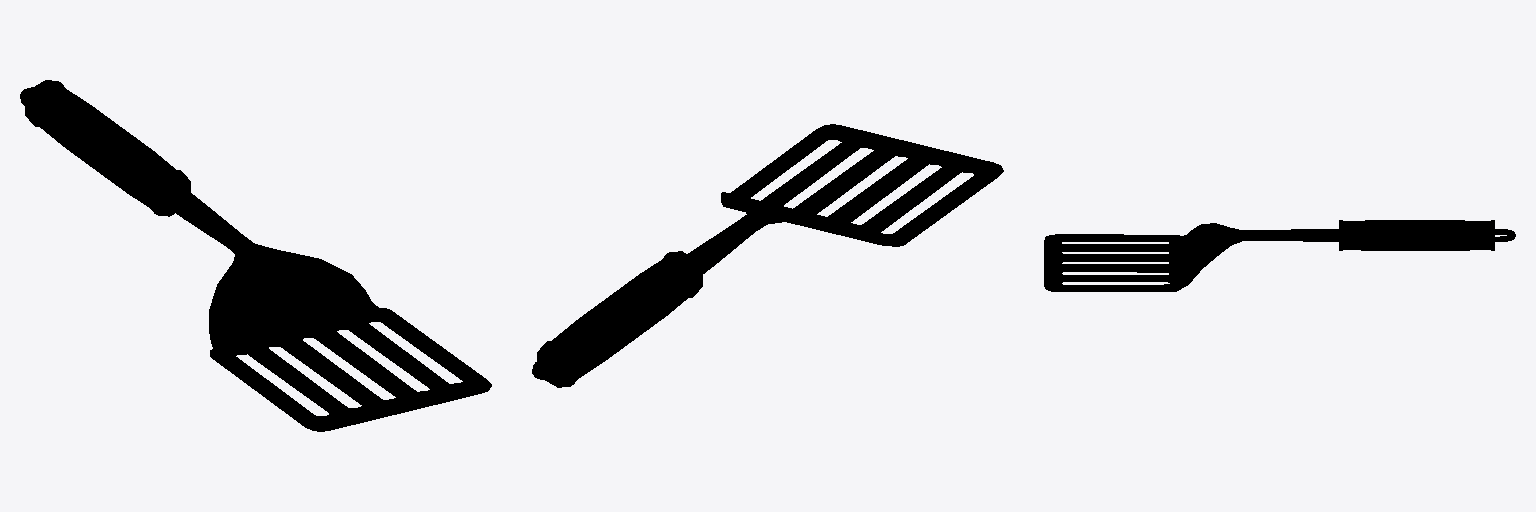
URDF robot description (spatula_dummy):
<?xml version="1.0" ?>
<robot name="spatula_dummy">
  <link name="baseLink">
    <visual>
      <origin rpy="0 0 0" xyz="0.0225 0.000 0.0047"/>
      <geometry>
        <mesh filename="../obj/spatula.obj" scale="0.01 0.01 0.01"/>
      </geometry>
       <material name="black">
        <color rgba="0 0 0 1"/>
      </material>
    </visual>
  </link>
</robot>

--- What the picture shows (computed from the rendered views, not written in the file) ---
The picture shows the robot from 3 angles, left to right: view 1: azimuth 30°, elevation 25°; view 2: azimuth 150°, elevation 25°; view 3: azimuth 270°, elevation 25°; orthographic projection.
Robot: spatula_dummy — 1 links, 0 joints (none); root link baseLink; default pose: every joint at zero.
Links seen in each view (by area): view 1: baseLink; view 2: baseLink; view 3: baseLink.
Boxes of the visible links, <box> form: baseLink: <box>20,80,491,431</box>; baseLink: <box>532,124,1003,387</box>; baseLink: <box>1044,220,1515,291</box>.
Bounding box of the posed robot: 0.0884 × 0.3145 × 0.0318 m (x, y, z).
1 mesh visuals loaded from 1 distinct referenced files (1 OBJ).
